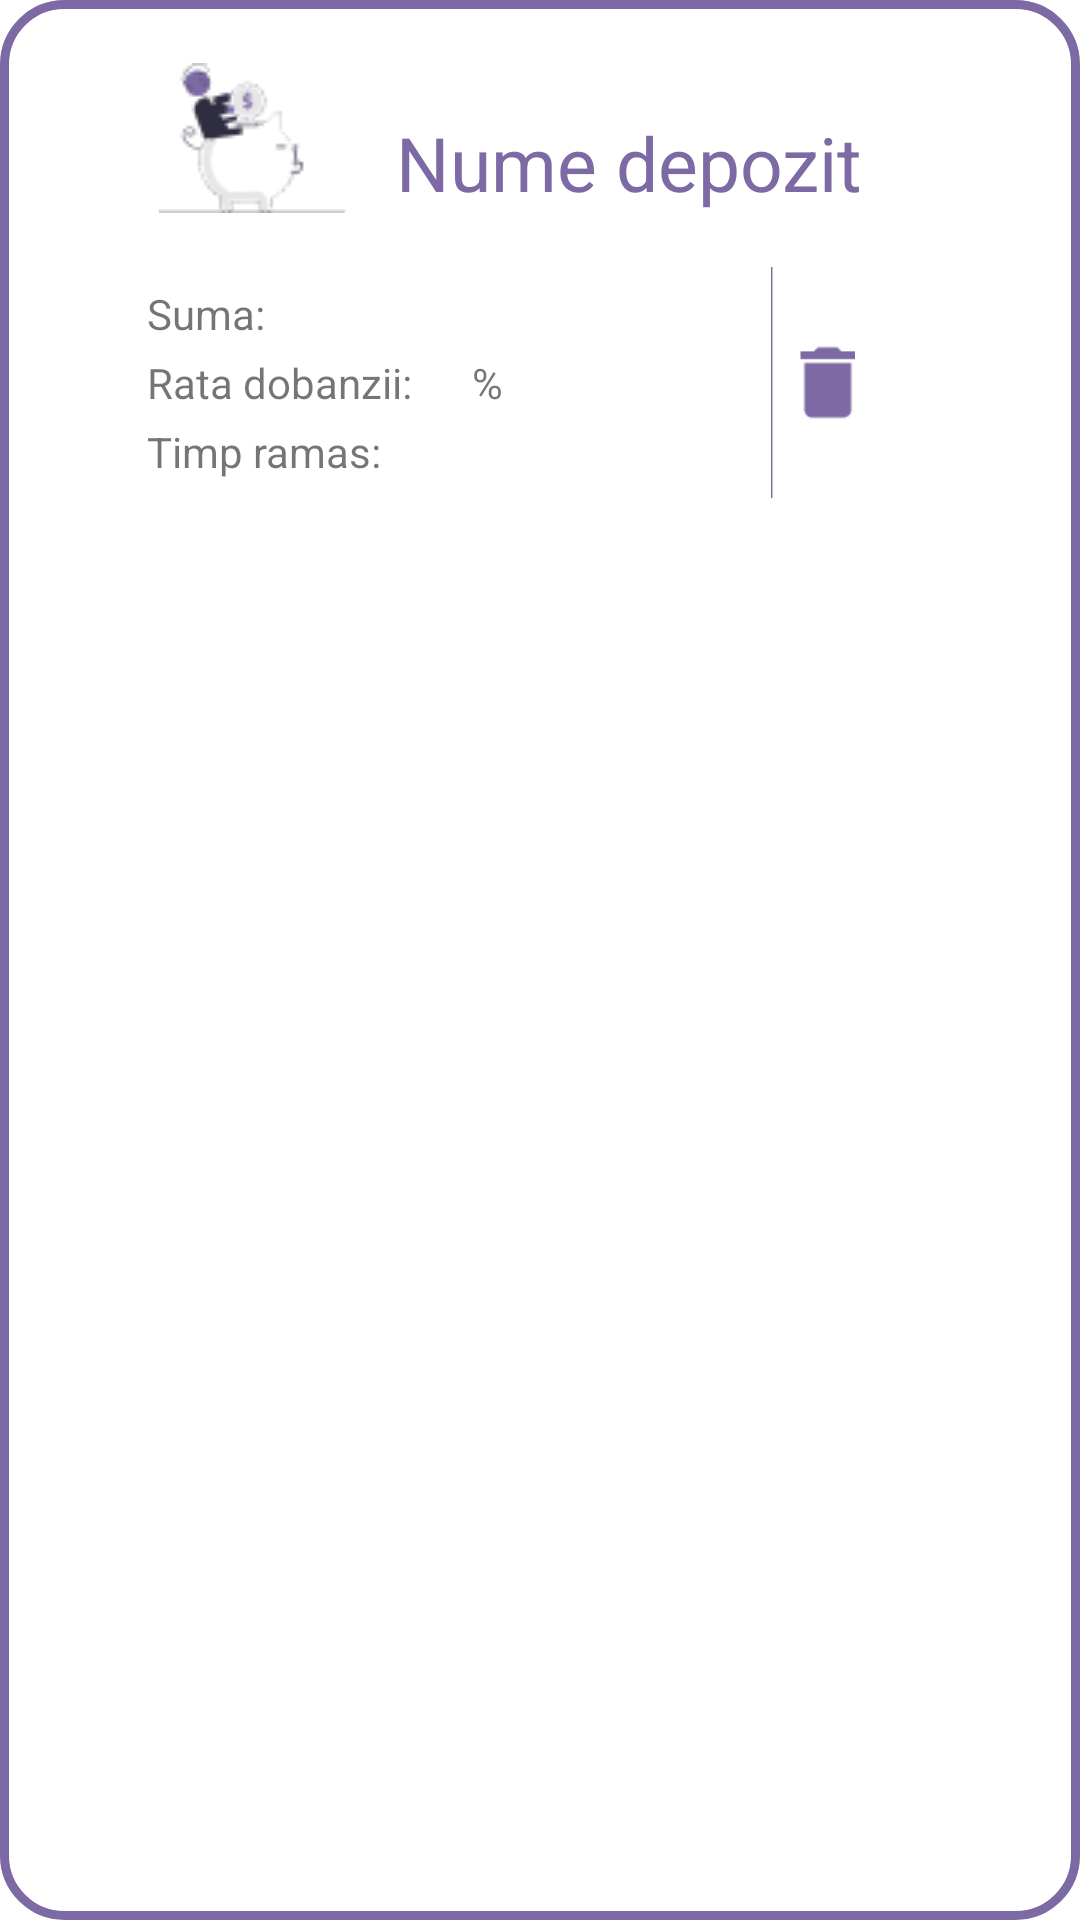

Icons on this 1080 x 1920 Android screen, each with its box as (x1, y1, x2, y2):
depozit detail: (159, 63, 345, 213)
